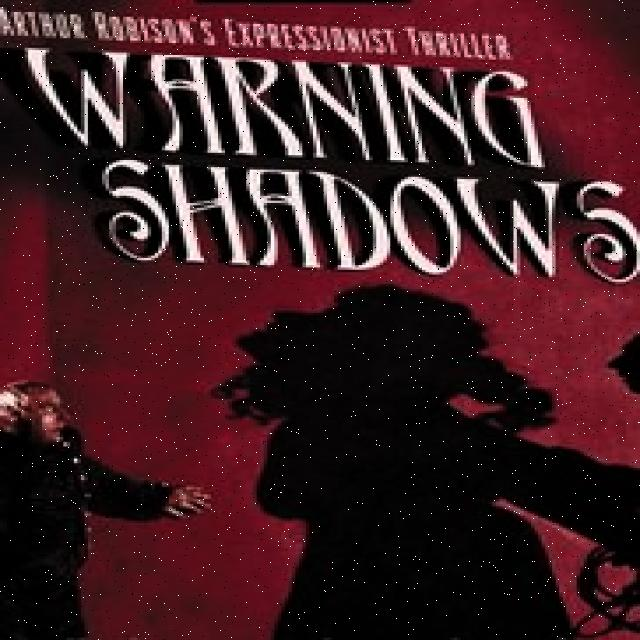movie-judul: (16, 38, 640, 296)
picture: (207, 273, 640, 635), (0, 368, 243, 638)
